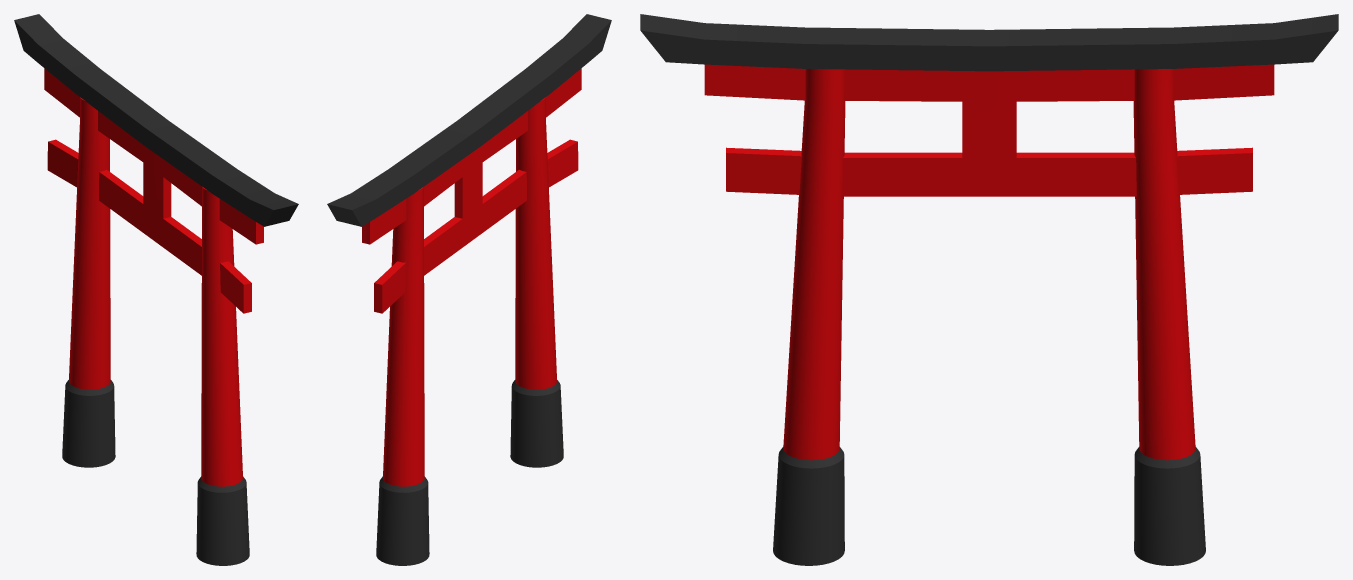
File: Gates.fbx
The picture shows the model from 3 angles, left to right: view 1: azimuth 30°, elevation 25°; view 2: azimuth 150°, elevation 25°; view 3: azimuth 270°, elevation 25°; orthographic projection. The views are drawn at different scales.
Visible parts, largest first — view 1: Cylinder; view 2: Cylinder; view 3: Cylinder.
Boxes of the visible parts, x1,y1,x2,y2 form: Cylinder: [14, 14, 298, 565]; Cylinder: [327, 14, 611, 565]; Cylinder: [640, 14, 1338, 565].
Bounding box in the file's own units: 128 × 1043 × 1248.
